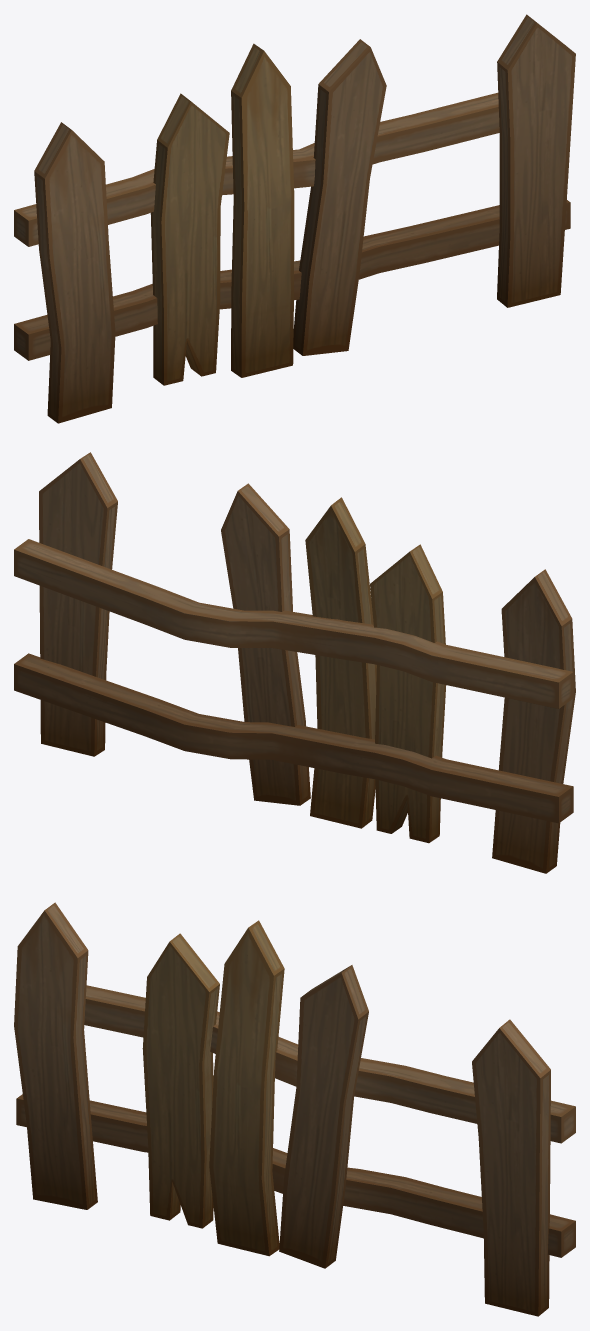
The model's file is SM_wooden_fence_03.glb.
The picture shows the model from 3 angles, top to bottom: view 1: azimuth 30°, elevation 25°; view 2: azimuth 150°, elevation 25°; view 3: azimuth 330°, elevation 25°; orthographic projection.
Visible parts, largest first — view 1: SM_wooden_fence_03; view 2: SM_wooden_fence_03; view 3: SM_wooden_fence_03.
Part boxes in pixels (<box>): SM_wooden_fence_03: <box>14,14,575,423</box>; SM_wooden_fence_03: <box>14,452,575,873</box>; SM_wooden_fence_03: <box>14,902,575,1316</box>.
Bounding box in the file's own units: 3 × 1.69 × 0.3792.
Materials: 1 (1 with a texture image).
